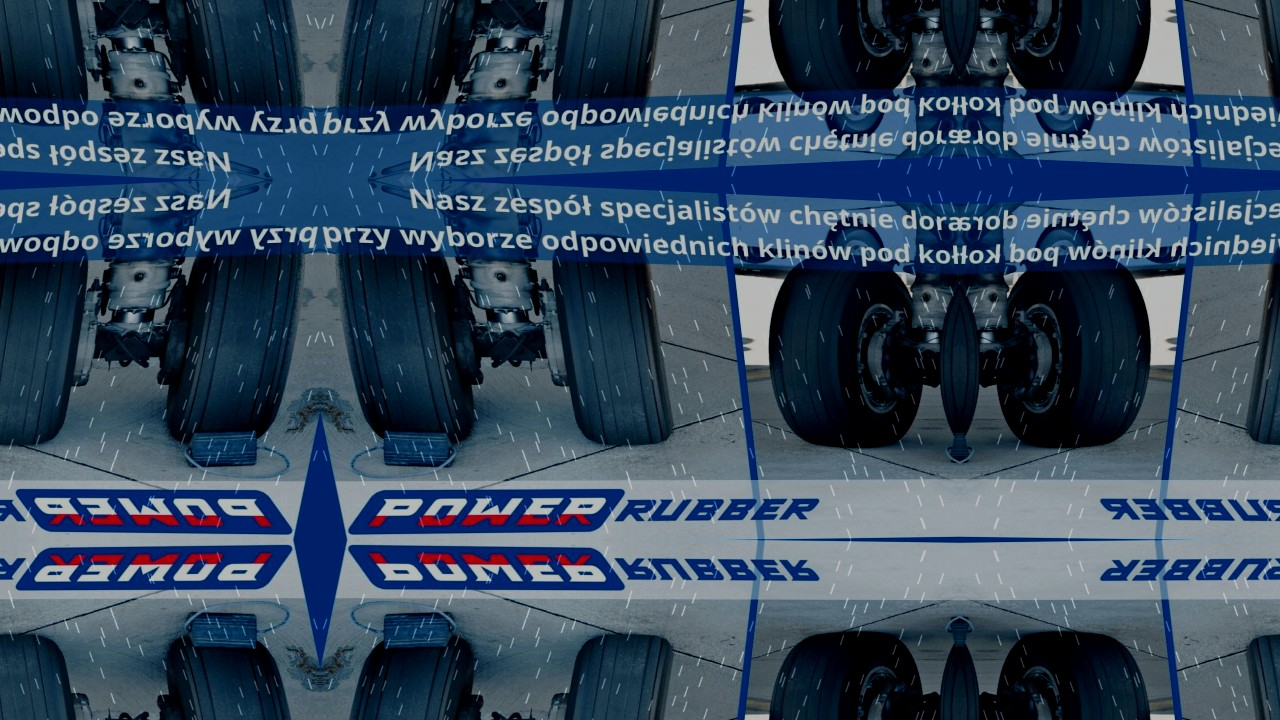chock: (179, 427, 265, 471), (375, 427, 461, 471), (179, 609, 265, 653), (375, 609, 461, 653)
wheel: (158, 224, 320, 444), (320, 224, 482, 444), (758, 259, 926, 448), (994, 259, 1162, 448), (543, 234, 677, 445), (158, 0, 320, 136), (320, 0, 482, 136), (0, 234, 97, 445), (758, 0, 926, 101), (994, 0, 1162, 101), (543, 0, 677, 126), (758, 632, 926, 720), (994, 632, 1162, 720), (158, 636, 320, 720), (320, 636, 482, 720), (0, 0, 97, 126), (543, 635, 677, 720), (0, 635, 97, 720), (1243, 234, 1280, 445), (1243, 0, 1280, 126), (1243, 635, 1280, 720), (822, 94, 889, 139), (1031, 94, 1098, 139), (822, 221, 889, 266), (1031, 221, 1098, 266)
